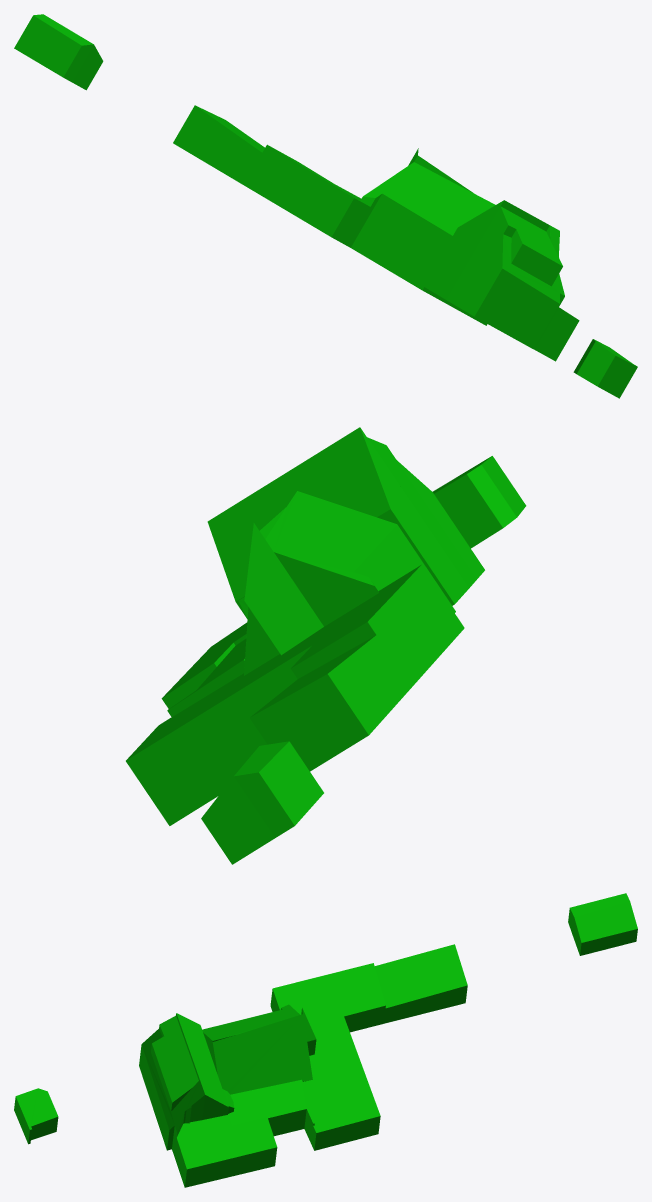
3 renders of one model, top to bottom at view 1: azimuth 30°, elevation 25°; view 2: azimuth 150°, elevation 25°; view 3: azimuth 270°, elevation 25°, orthographic. The views are drawn at different scales.
Parts seen in each view (by area): view 1: mesh; view 2: mesh; view 3: mesh.
Boxes of the visible parts, x1=… form: mesh: x1=14, y1=14, x2=637, y2=398; mesh: x1=126, y1=427, x2=526, y2=864; mesh: x1=14, y1=893, x2=637, y2=1187.
Bounding box in the file's own units: 24.3 × 16.58 × 50.35.
